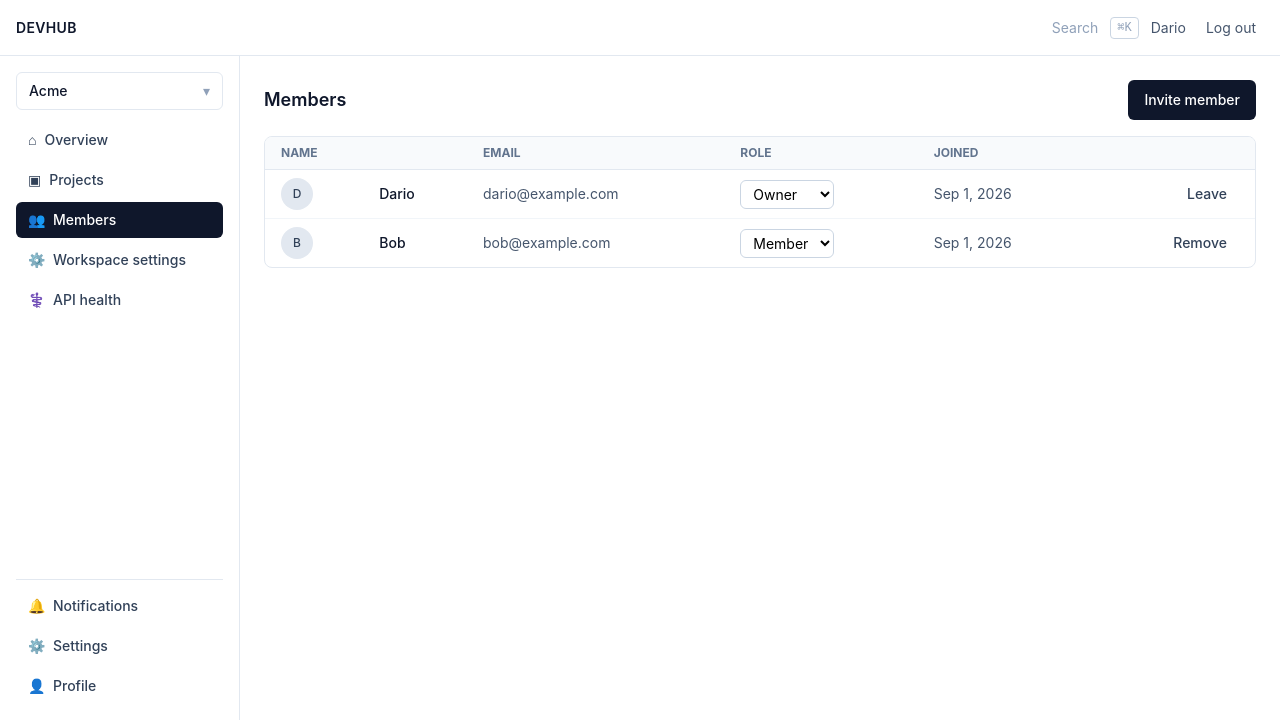
as an owner › rolls back and shows the server explanation when demoting the last owner
Expected: the text "Bob" is shown, [363, 218, 467, 267]
Select "Member" in the dropdown named "Role for Dario" at (787, 194), box [740, 180, 834, 208]
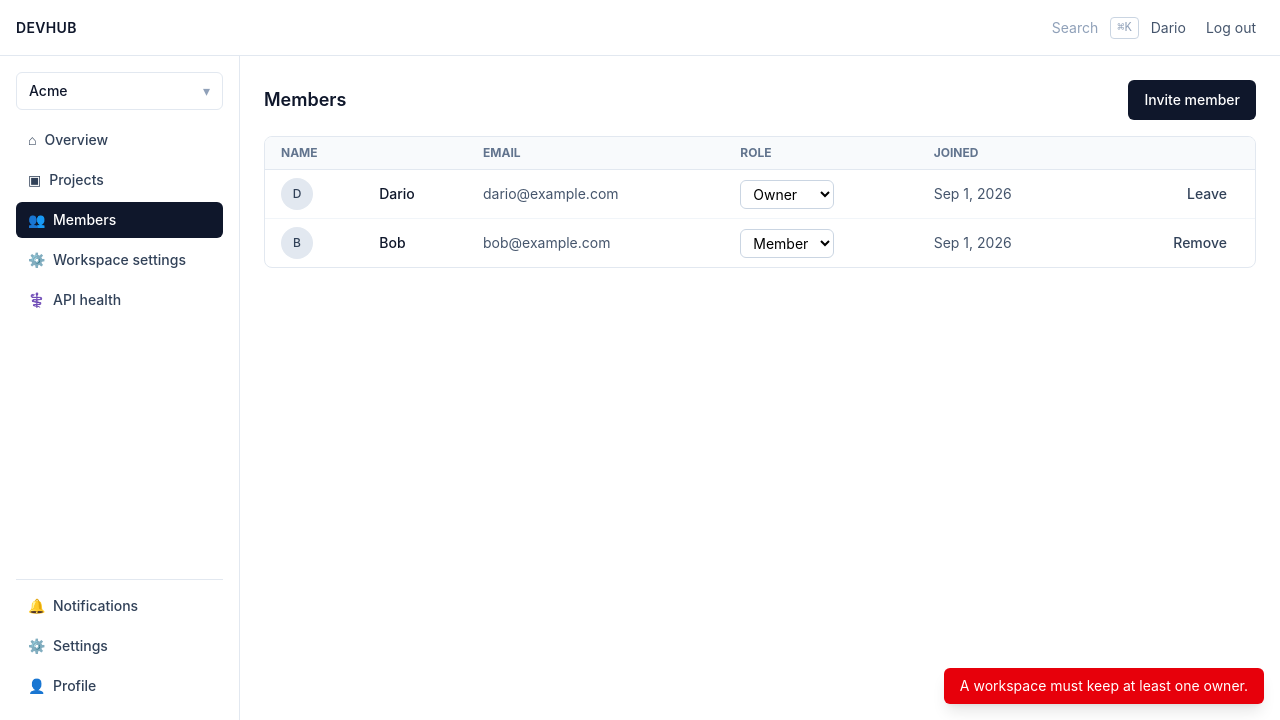
Expected: the text "A workspace must keep at least one owner." is shown, [944, 668, 1264, 704]
